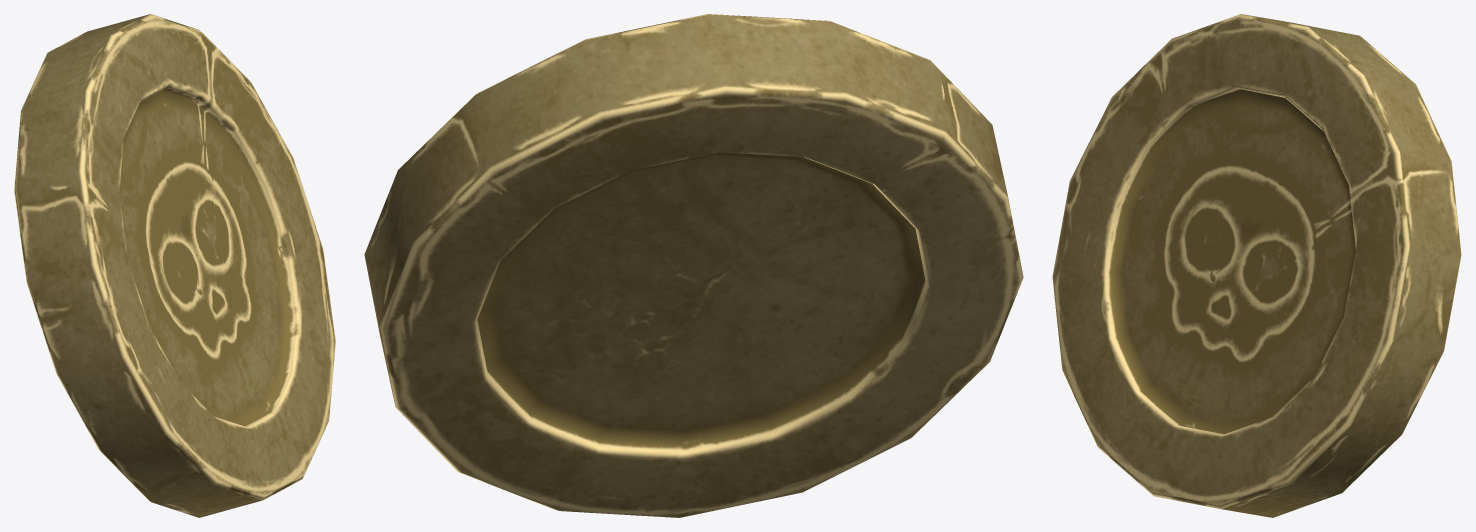
File: coin.glb
The picture shows the model from 3 angles, left to right: view 1: azimuth 30°, elevation 25°; view 2: azimuth 150°, elevation 25°; view 3: azimuth 270°, elevation 25°; orthographic projection. The views are drawn at different scales.
Parts seen in each view (by area): view 1: Coin_low; view 2: Coin_low; view 3: Coin_low.
Boxes of the visible parts, <box> form: Coin_low: <box>14,14,335,517</box>; Coin_low: <box>364,14,1023,517</box>; Coin_low: <box>1052,14,1461,517</box>.
Size of the model in its own units: 0.1254 by 0.1368 by 0.115.
1 material, 1 textured.
